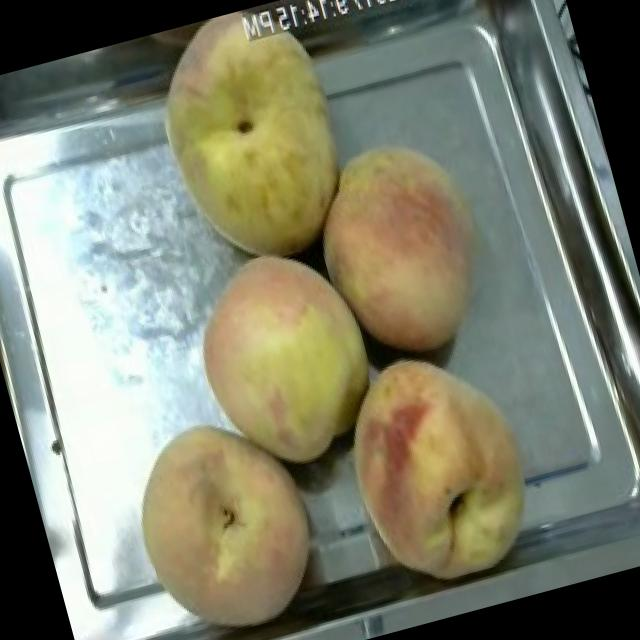Fruit: (131, 0, 381, 286), (312, 324, 560, 608), (170, 228, 406, 494), (106, 392, 349, 640), (286, 117, 514, 380)
